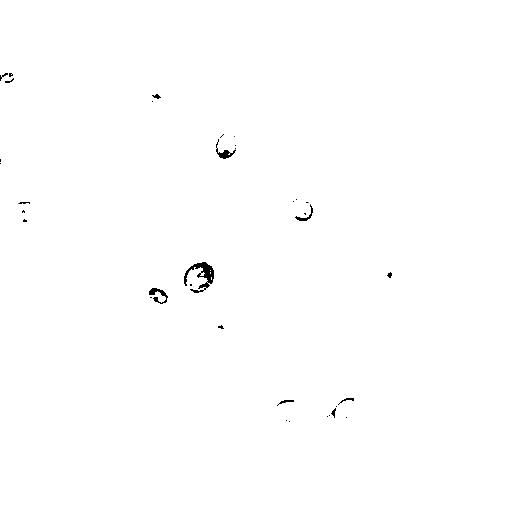micro-algae: (2, 148, 41, 220), (107, 178, 153, 229), (371, 256, 409, 295), (183, 260, 217, 295), (271, 397, 305, 425), (10, 199, 43, 227), (213, 131, 239, 160), (331, 396, 361, 421), (289, 196, 312, 221), (500, 371, 512, 412), (147, 286, 169, 305), (214, 205, 231, 227), (1, 71, 16, 85)
